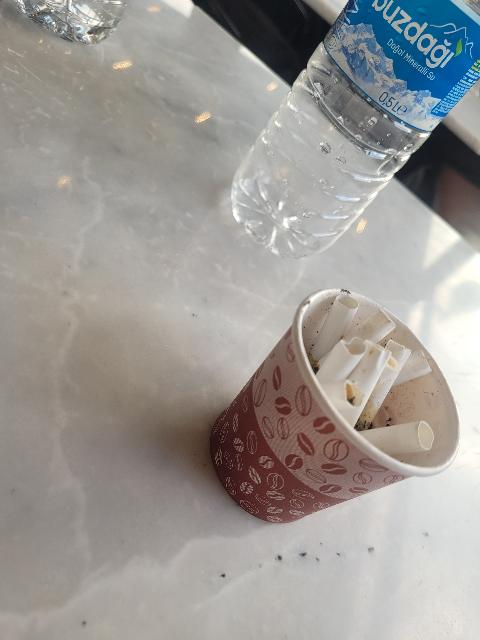Kagit: (202, 283, 467, 531)
Plastik: (219, 0, 479, 272)
